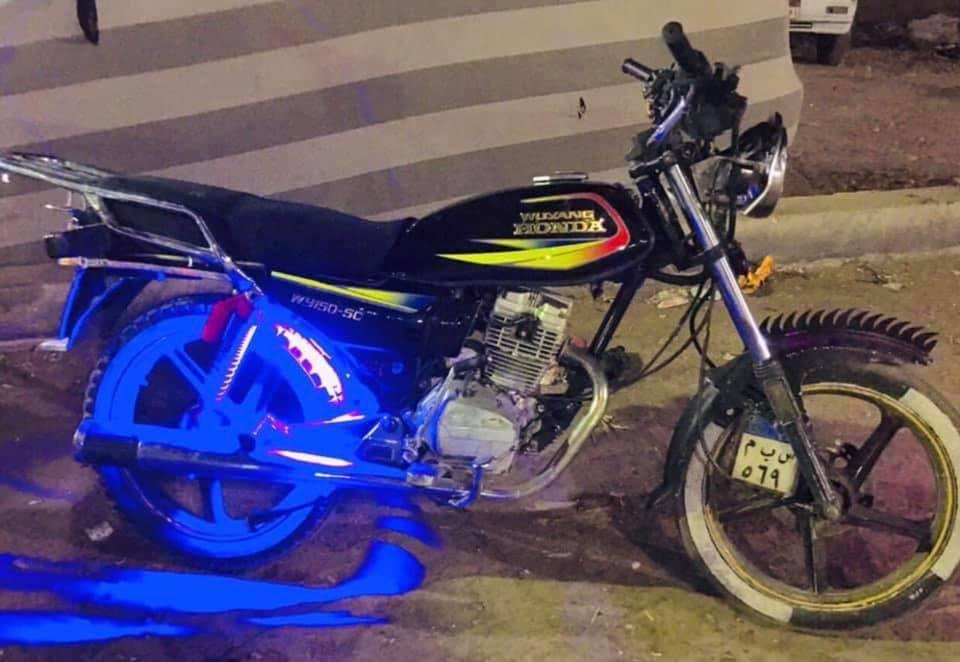License Plate: (728, 415, 804, 498)
